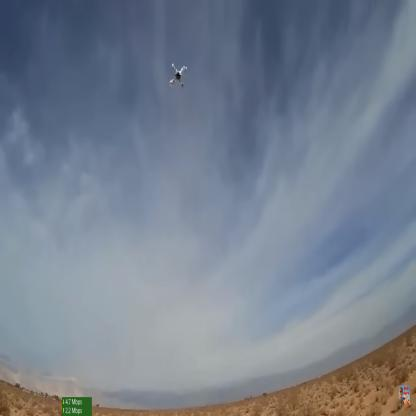drone: (167, 58, 189, 93)
